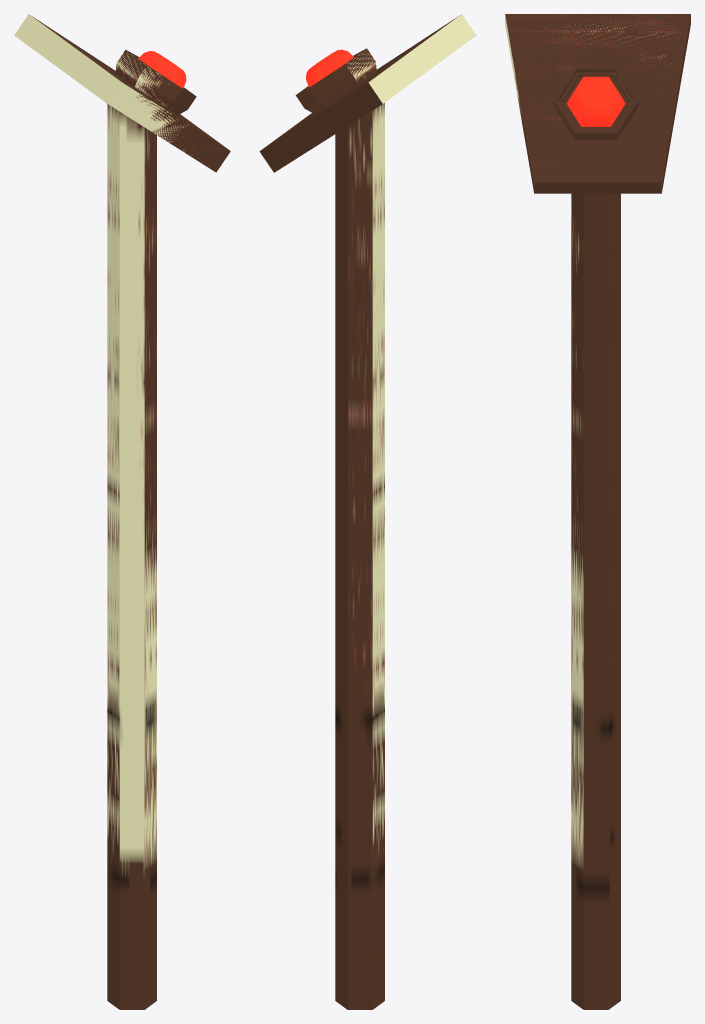
Rendered from Button_LM.glb.
3 renders of one model, left to right at view 1: azimuth 30°, elevation 25°; view 2: azimuth 150°, elevation 25°; view 3: azimuth 270°, elevation 25°, orthographic.
Visible parts, largest first — view 1: Button_LM; view 2: Button_LM; view 3: Button_LM.
Part boxes in pixels (x1=…): Button_LM: x1=14, y1=14, x2=230, y2=1009; Button_LM: x1=259, y1=14, x2=476, y2=1009; Button_LM: x1=505, y1=14, x2=690, y2=1009.
Size of the model in its own units: 0.5162 by 3.45 by 0.6057.
Materials: 2 (1 with a texture image).
